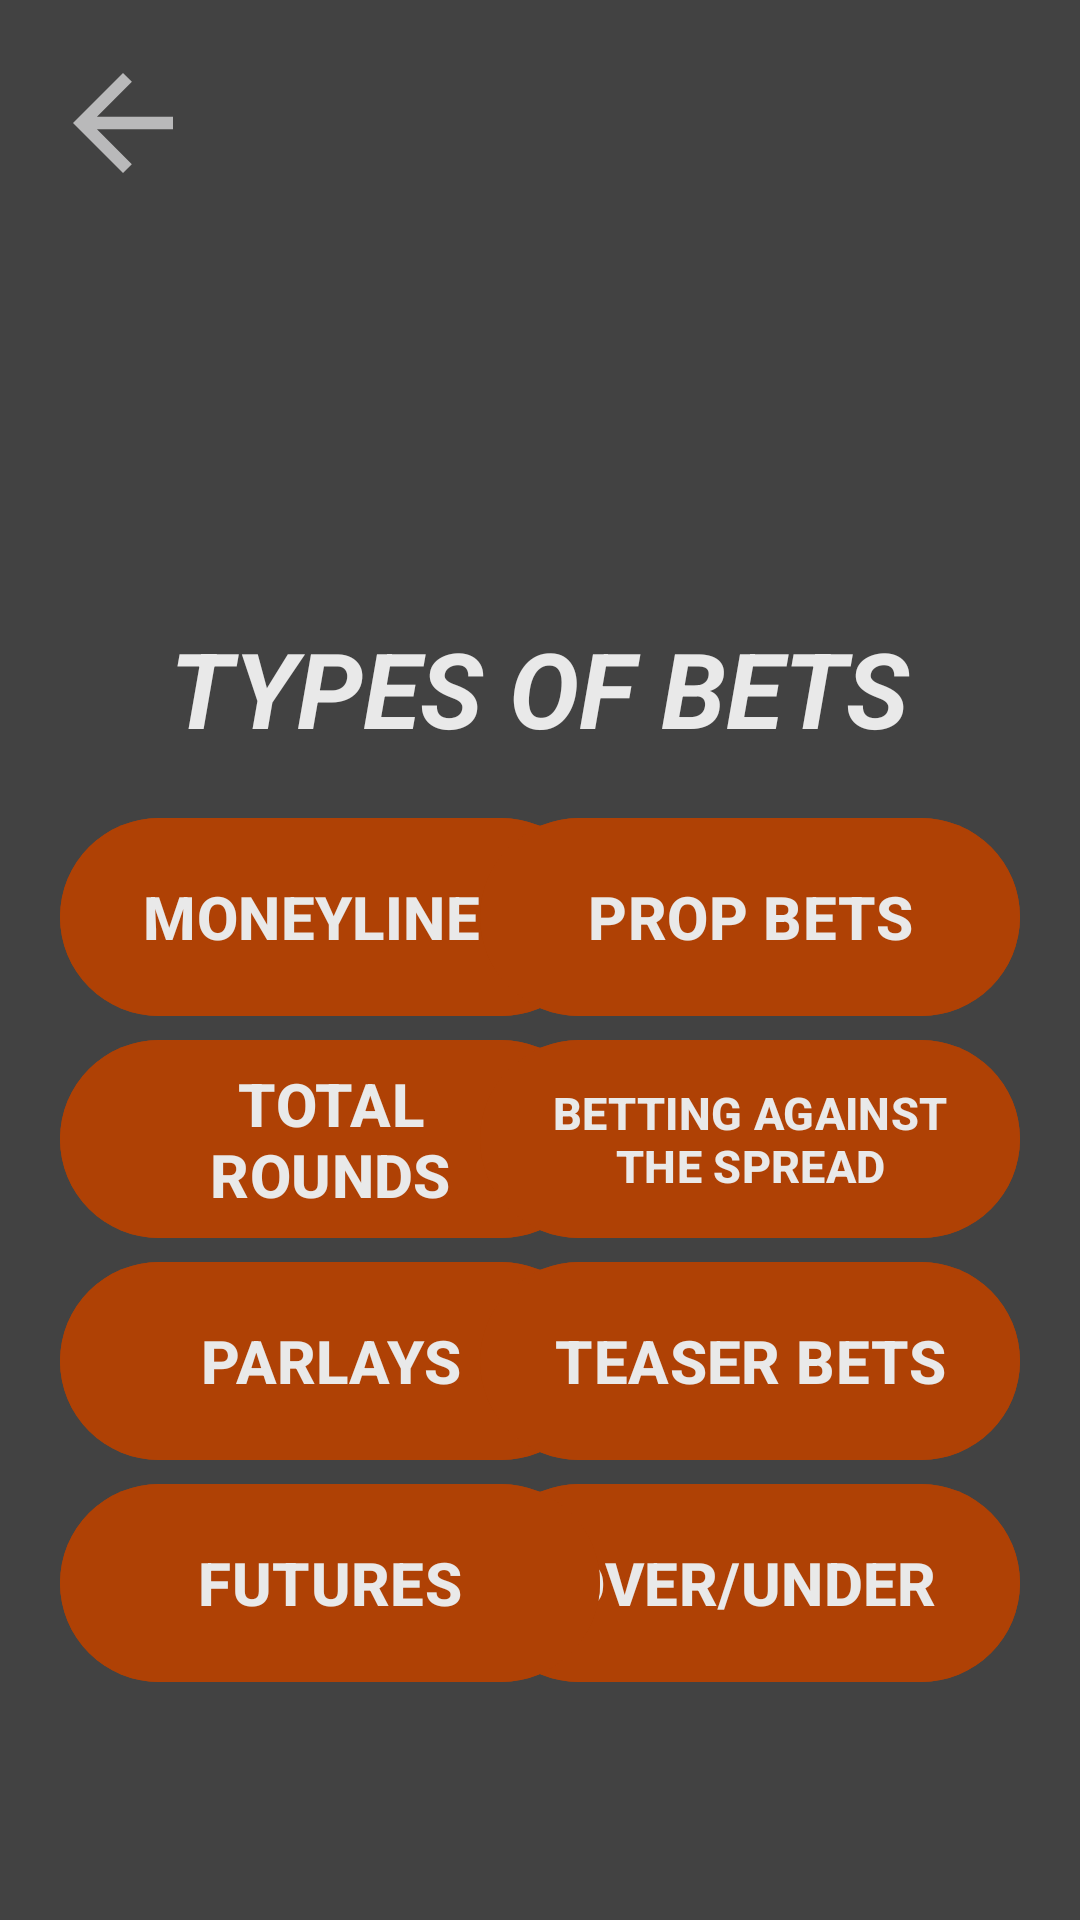

Where to tap for icons on this 1080×1920 app screen, as [x,y]:
arrow back: [123,123]
